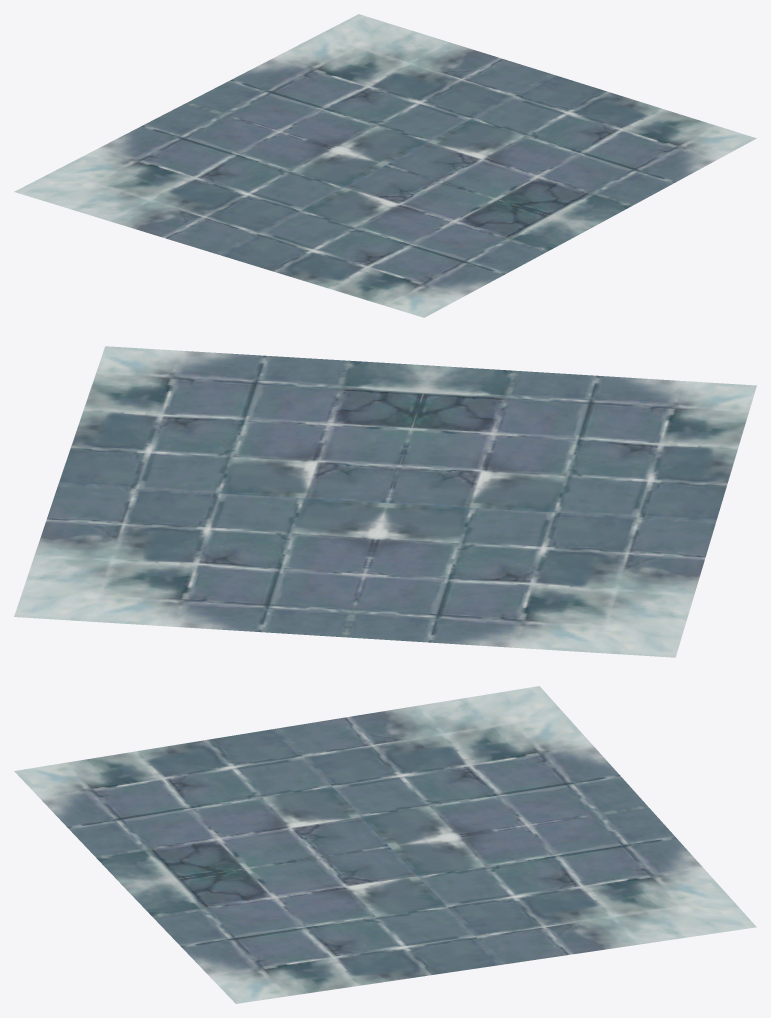
File: snow_02_floor_02.FBX
The picture shows the model from 3 angles, top to bottom: view 1: azimuth 30°, elevation 25°; view 2: azimuth 150°, elevation 25°; view 3: azimuth 270°, elevation 25°; orthographic projection. The views are drawn at different scales.
Visible parts, largest first — view 1: floor2; view 2: floor2; view 3: floor2.
Part boxes in pixels (x1,y1,x2,y2): floor2: (14,14,756,317); floor2: (14,346,756,657); floor2: (14,686,756,1003).
Size of the model in its own units: 22.03 by 0.3237 by 21.25.
